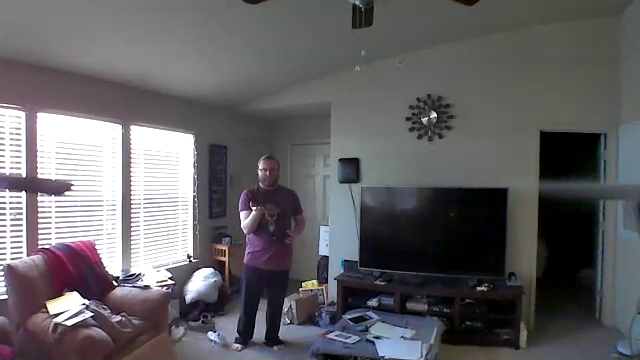land: (249, 199, 269, 213)
